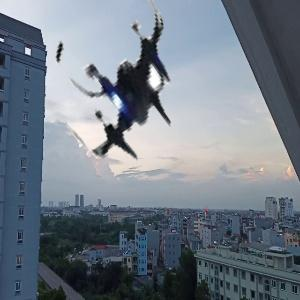drone: (49, 2, 207, 160)
